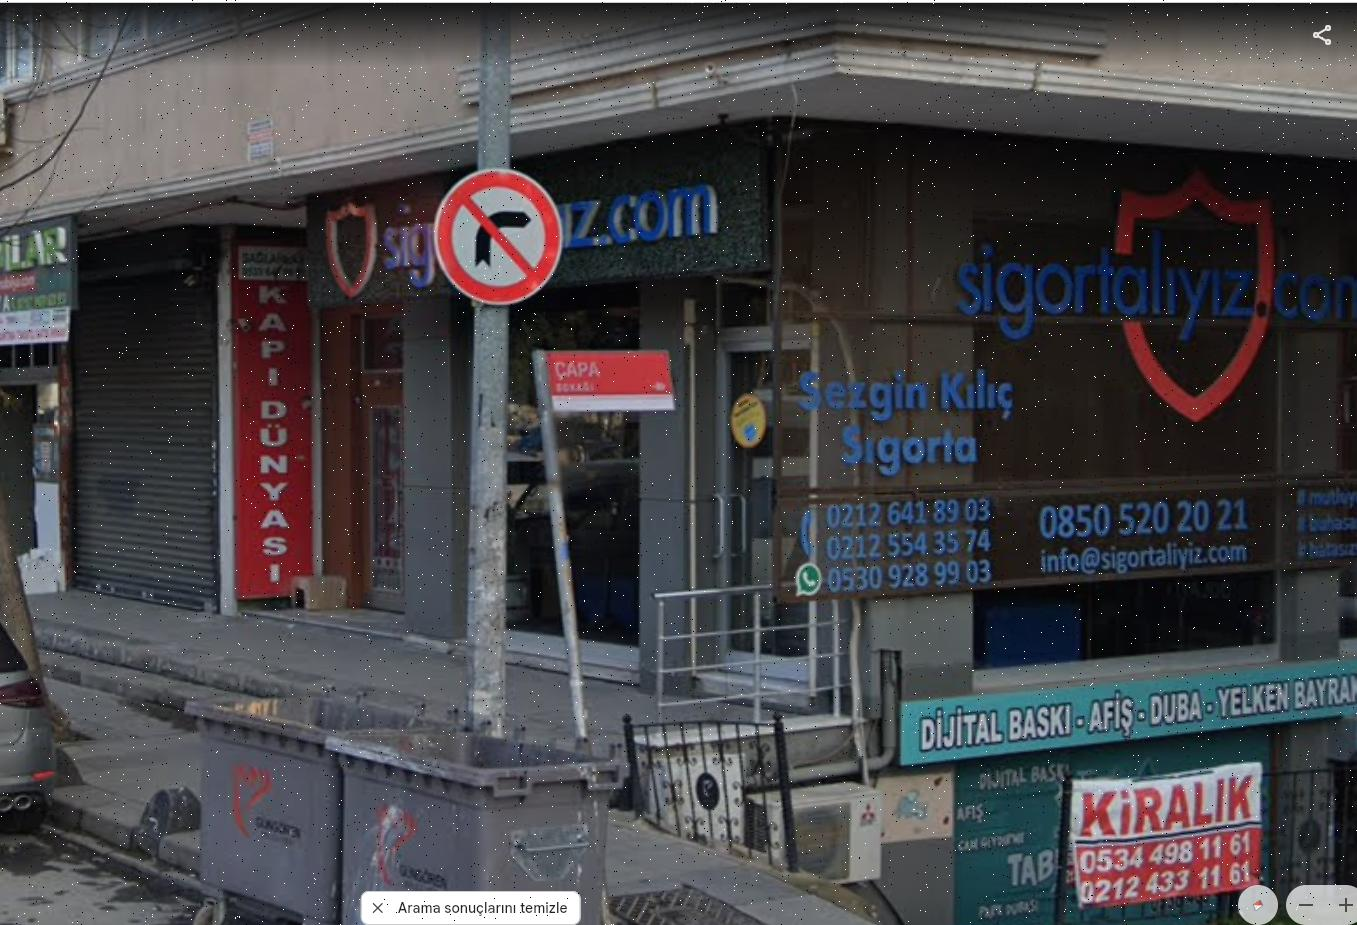rightturnsareforbidden: (433, 167, 567, 304)
